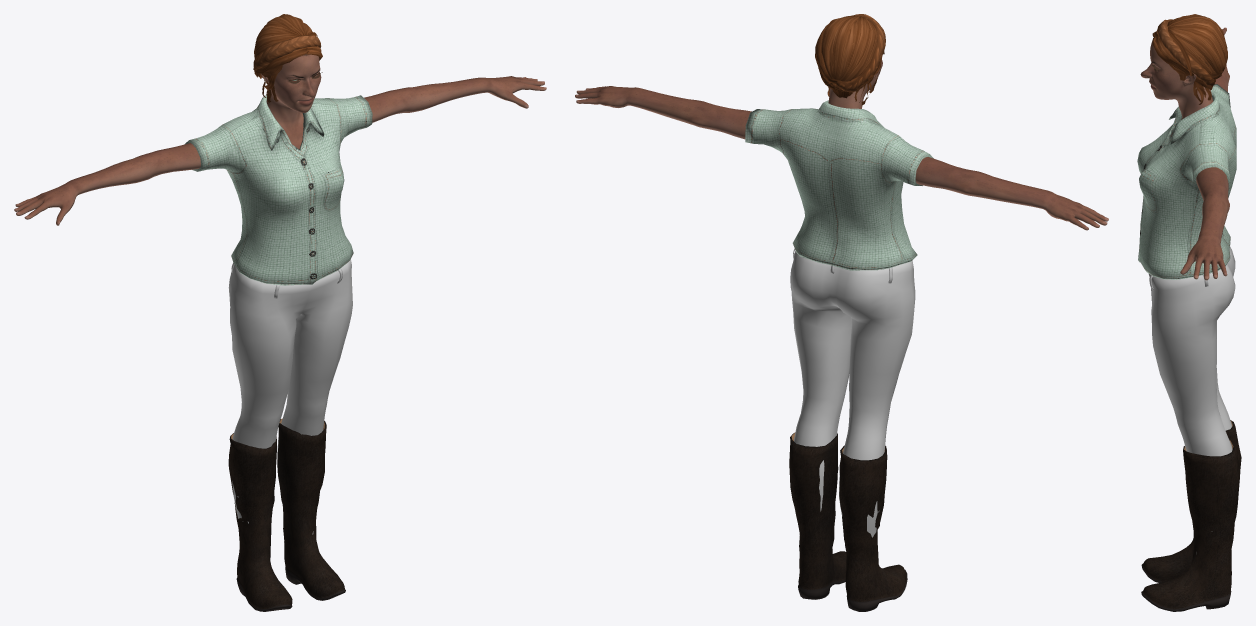
The picture shows the model from 3 angles, left to right: view 1: azimuth 30°, elevation 25°; view 2: azimuth 150°, elevation 25°; view 3: azimuth 270°, elevation 25°; orthographic projection.
Visible parts, largest first — view 1: Tops, Bottoms, Shoes, Body, Hair; view 2: Bottoms, Tops, Shoes, Body, Hair; view 3: Tops, Bottoms, Shoes, Body, Hair.
Boxes of the visible parts, x1,y1,x2,y2 form: Tops: (184,95,372,285); Bottoms: (228,259,352,534); Shoes: (228,418,345,611); Body: (14,54,546,225); Hair: (253,14,322,102); Bottoms: (790,248,915,537); Tops: (745,100,933,270); Shoes: (789,432,907,611); Body: (575,59,1108,230); Hair: (815,14,885,105); Tops: (1137,84,1236,279); Bottoms: (1148,246,1235,554); Shoes: (1141,420,1241,611); Body: (1140,27,1229,280); Hair: (1152,14,1227,104).
Size of the model in its own units: 180 by 186 by 30.6.
